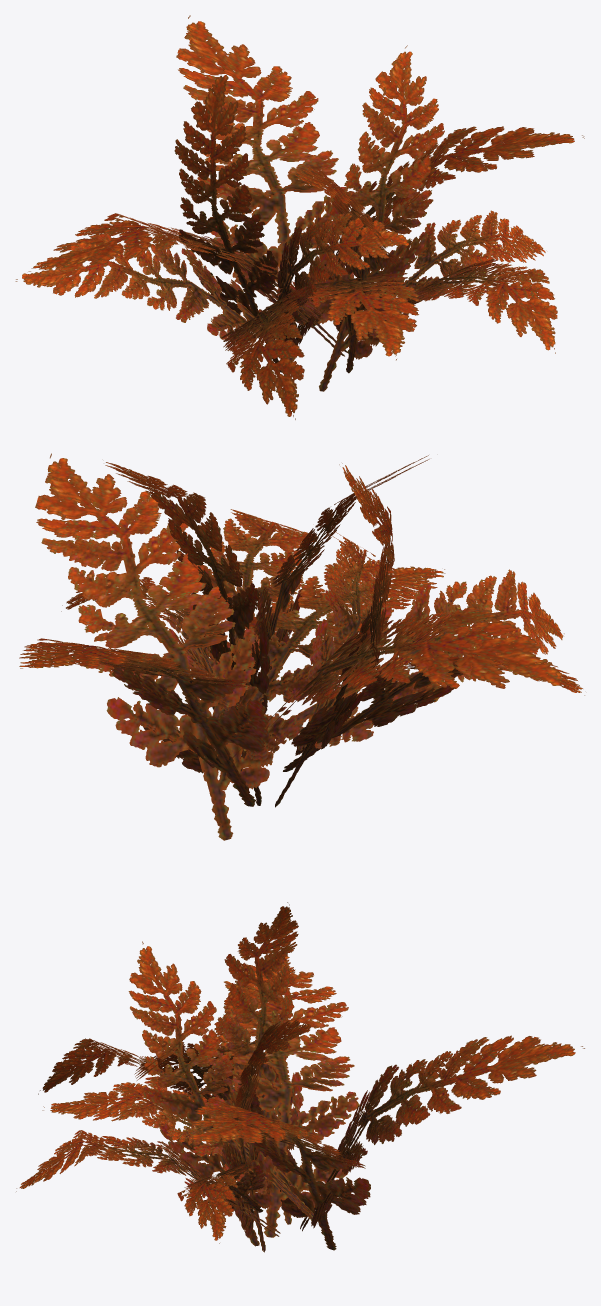
Rendered from guan_mu_002.FBX.
The picture shows the model from 3 angles, top to bottom: view 1: azimuth 30°, elevation 25°; view 2: azimuth 150°, elevation 25°; view 3: azimuth 270°, elevation 25°; orthographic projection. The views are drawn at different scales.
Parts seen in each view (by area): view 1: guan_mu_002; view 2: guan_mu_002; view 3: guan_mu_002.
Boxes of the visible parts, x1,y1,x2,y2 form: guan_mu_002: (15, 15, 584, 419); guan_mu_002: (19, 453, 584, 840); guan_mu_002: (16, 902, 584, 1252).
Size of the model in its own units: 236 by 151 by 241.
